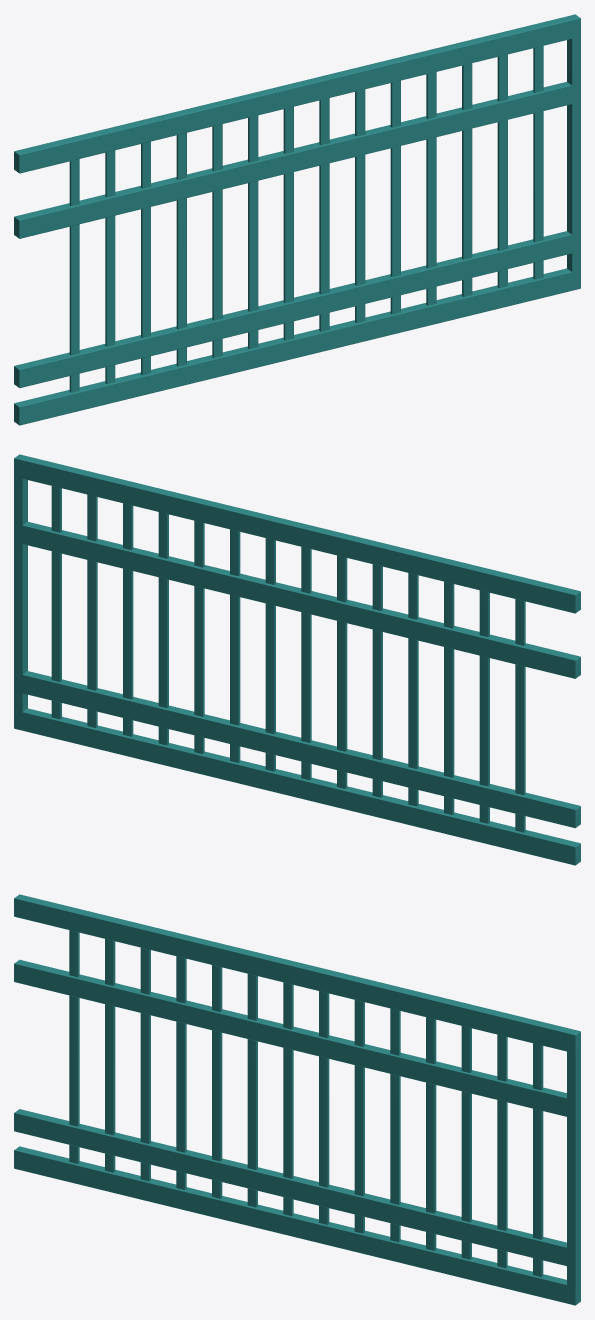
The model's file is School_Gate.fbx.
3 renders of one model, top to bottom at view 1: azimuth 30°, elevation 25°; view 2: azimuth 150°, elevation 25°; view 3: azimuth 330°, elevation 25°, orthographic.
Parts seen in each view (by area): view 1: pCube1, pCube3, pCube5, pCube4, pCube9, pCube14, pCube2, pCube7, pCube11, pCube8, pCube12, pCube6 (+3 smaller); view 2: pCube1, pCube5, pCube9, pCube10, pCube14, pCube6, pCube8, pCube12, pCube15, pCube2, pCube3, pCube4 (+3 smaller); view 3: pCube1, pCube3, pCube8, pCube6, pCube7, pCube12, pCube13, pCube15, pCube2, pCube4, pCube10, pCube5 (+3 smaller).
Boxes of the visible parts, x1,y1,x2,y2 form: pCube1: (14,14,580,425); pCube3: (355,89,365,322); pCube5: (426,72,436,305); pCube4: (248,115,258,349); pCube9: (319,98,329,331); pCube14: (105,150,115,383); pCube2: (533,46,543,279); pCube7: (462,63,472,296); pCube11: (212,124,222,357); pCube8: (283,106,293,340); pCube12: (176,133,186,366); pCube6: (390,80,400,314); pCube1: (14,454,580,865); pCube5: (158,512,168,745); pCube9: (265,538,275,771); pCube10: (87,494,97,727); pCube14: (479,590,489,823); pCube6: (194,520,204,754); pCube8: (301,547,311,780); pCube12: (408,573,418,806); pCube15: (515,599,525,832); pCube2: (51,486,61,719); pCube3: (230,529,240,762); pCube4: (337,555,347,788); pCube1: (14,894,580,1305); pCube3: (354,1000,364,1233); pCube8: (283,982,293,1216); pCube6: (390,1008,400,1242); pCube7: (461,1026,471,1259); pCube12: (176,956,186,1189); pCube13: (140,947,150,1181); pCube15: (69,930,79,1163); pCube2: (533,1043,543,1276); pCube4: (247,974,257,1207); pCube10: (497,1034,507,1268); pCube5: (426,1017,436,1250).
Size of the model in its own units: 15.75 by 7.25 by 0.2505.
